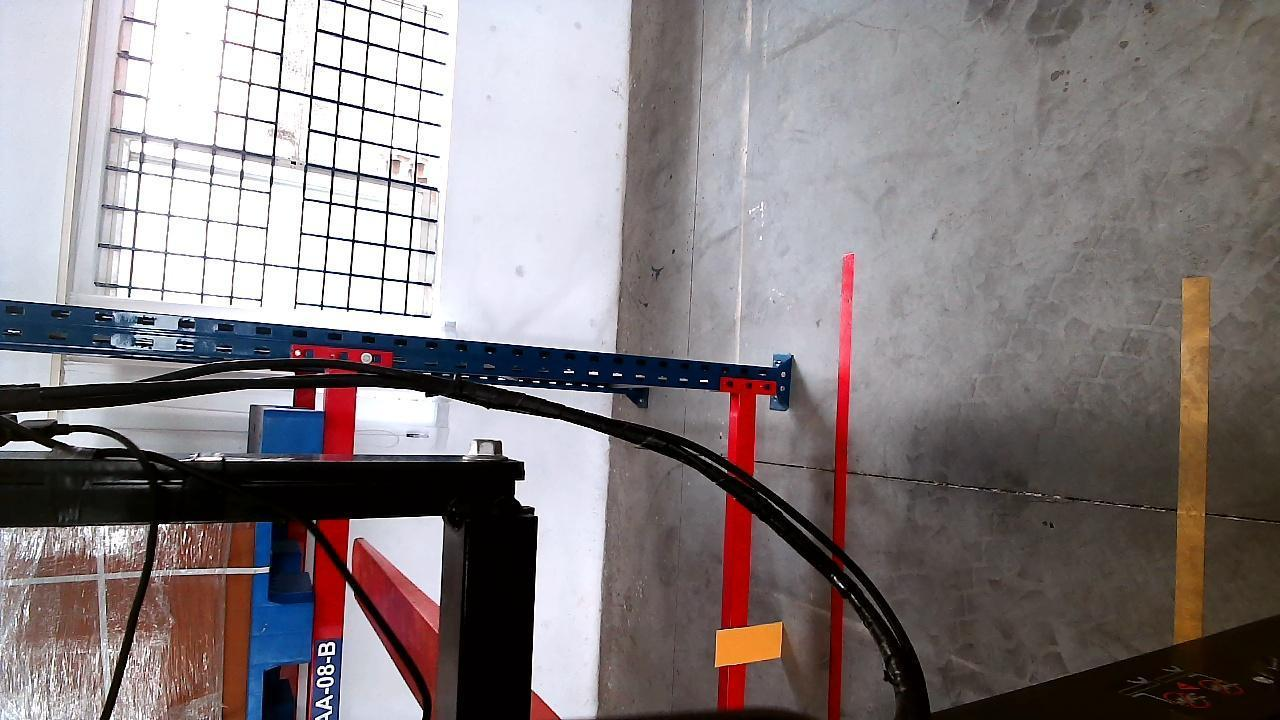h_rack: (310, 372, 361, 720), (727, 397, 756, 715)
orange_strip: (717, 623, 784, 666)
red_line: (829, 254, 853, 720)
small_pallet: (249, 407, 321, 719)
yellow_line: (1175, 275, 1211, 637)
